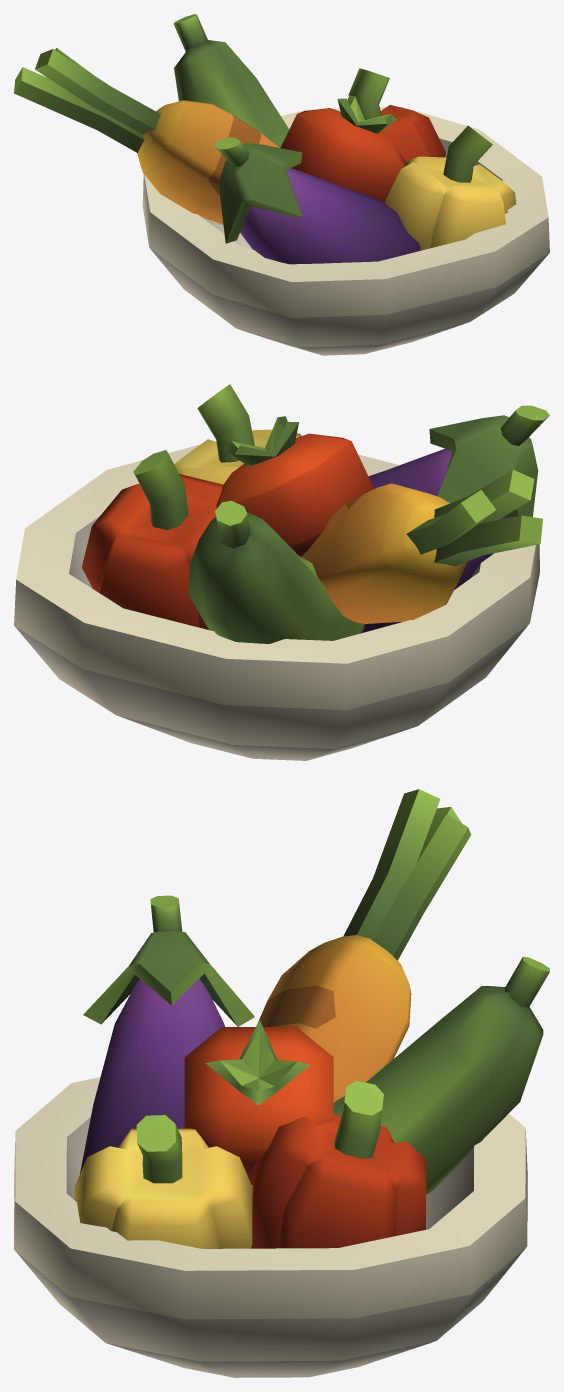
Rendered from bowl_fruit.fbx.
3 views of the same model, one above another, from view 1: azimuth 30°, elevation 25°; view 2: azimuth 150°, elevation 25°; view 3: azimuth 270°, elevation 25° (orthographic). The views are drawn at different scales.
Parts seen in each view (by area): view 1: bowl_fruit; view 2: bowl_fruit; view 3: bowl_fruit.
Boxes of the visible parts, x1,y1,x2,y2 form: bowl_fruit: [14, 14, 549, 355]; bowl_fruit: [14, 384, 549, 760]; bowl_fruit: [14, 789, 549, 1377].
Size of the model in its own units: 82.38 by 52.18 by 65.55.
